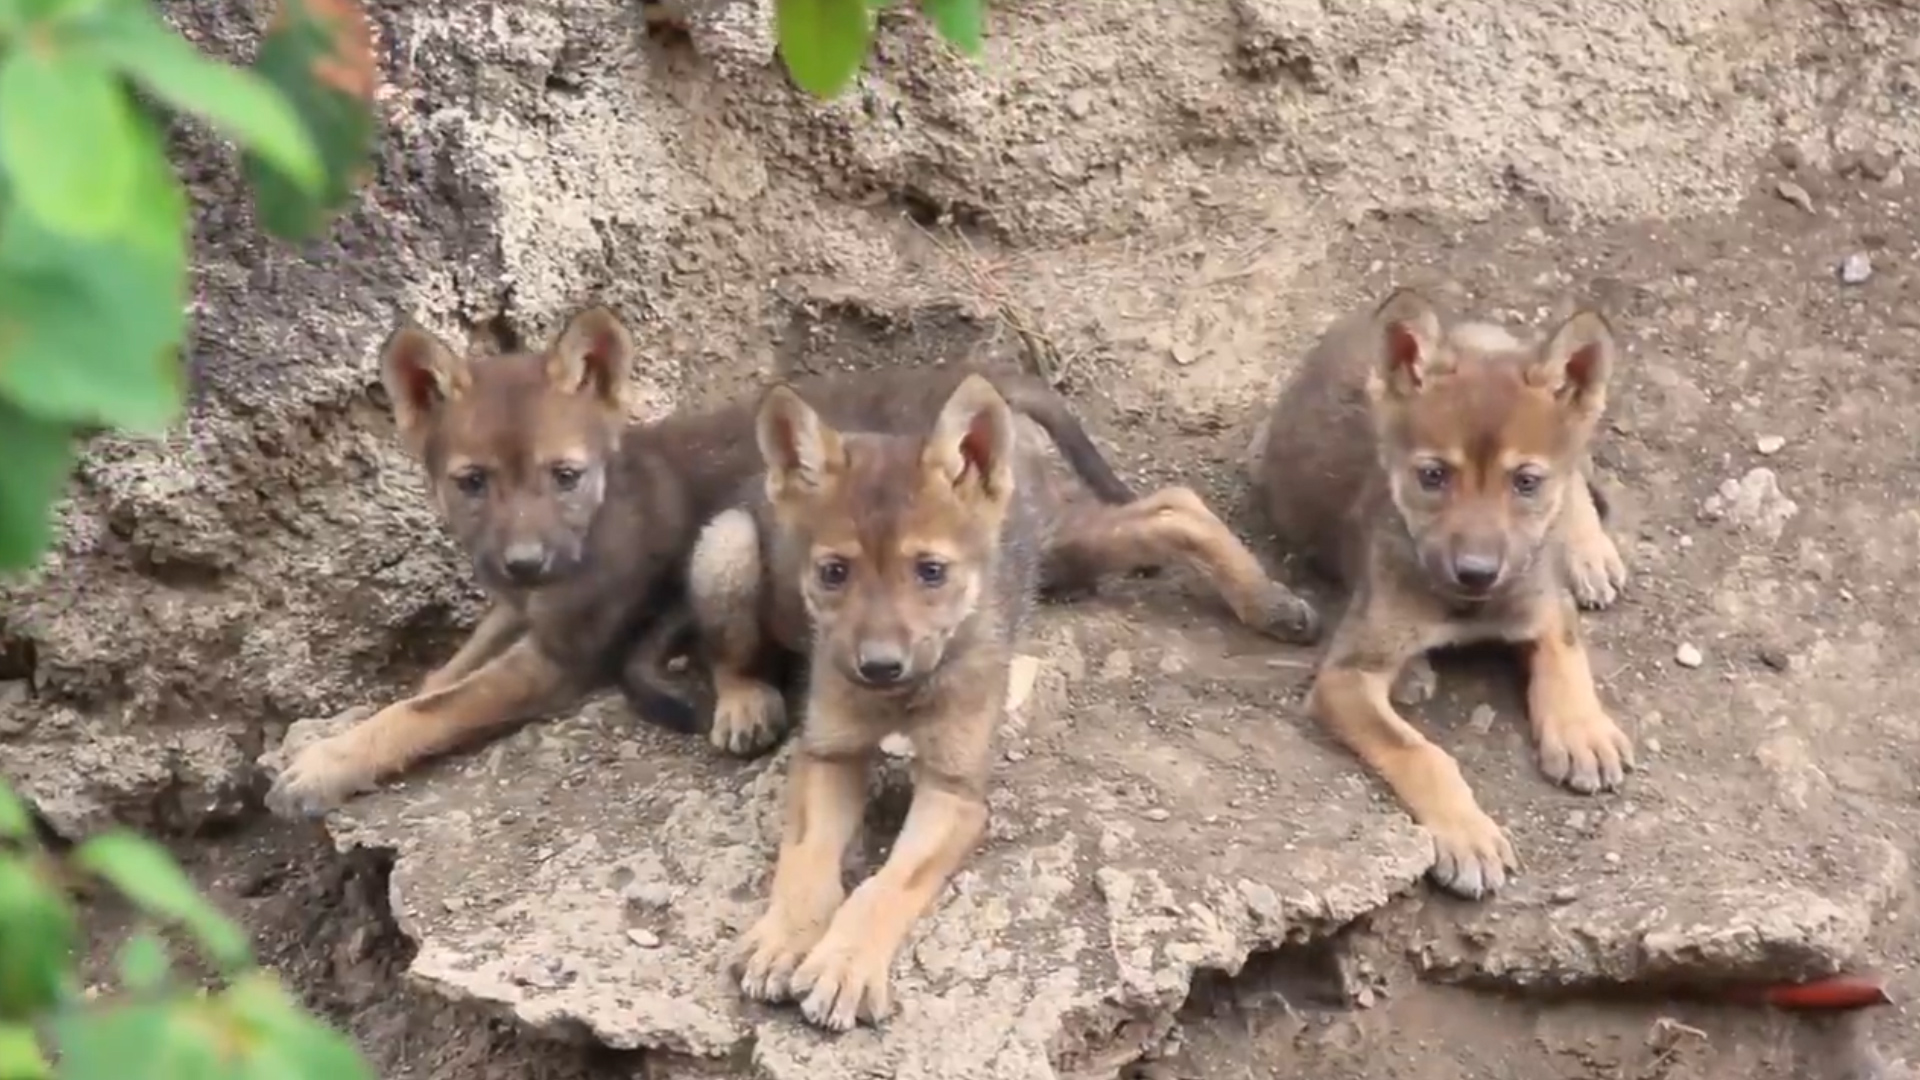Lobo: (1261, 255, 1669, 916), (756, 373, 1133, 1025), (349, 305, 715, 745)
